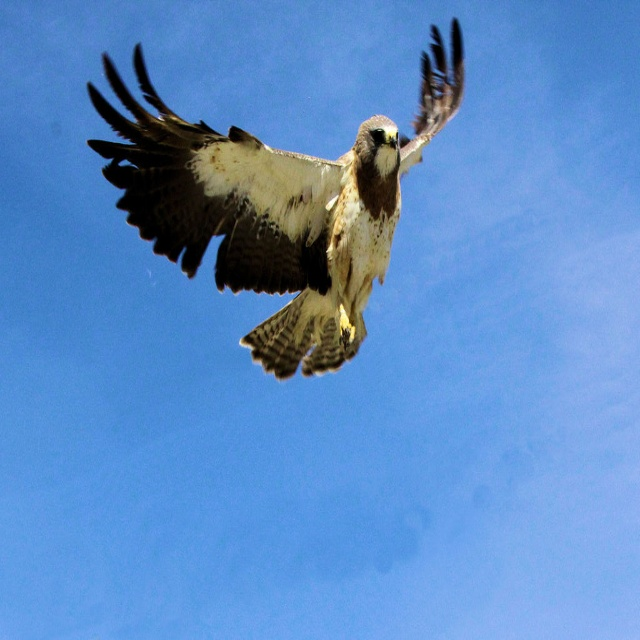Eagle: (84, 16, 468, 375)
